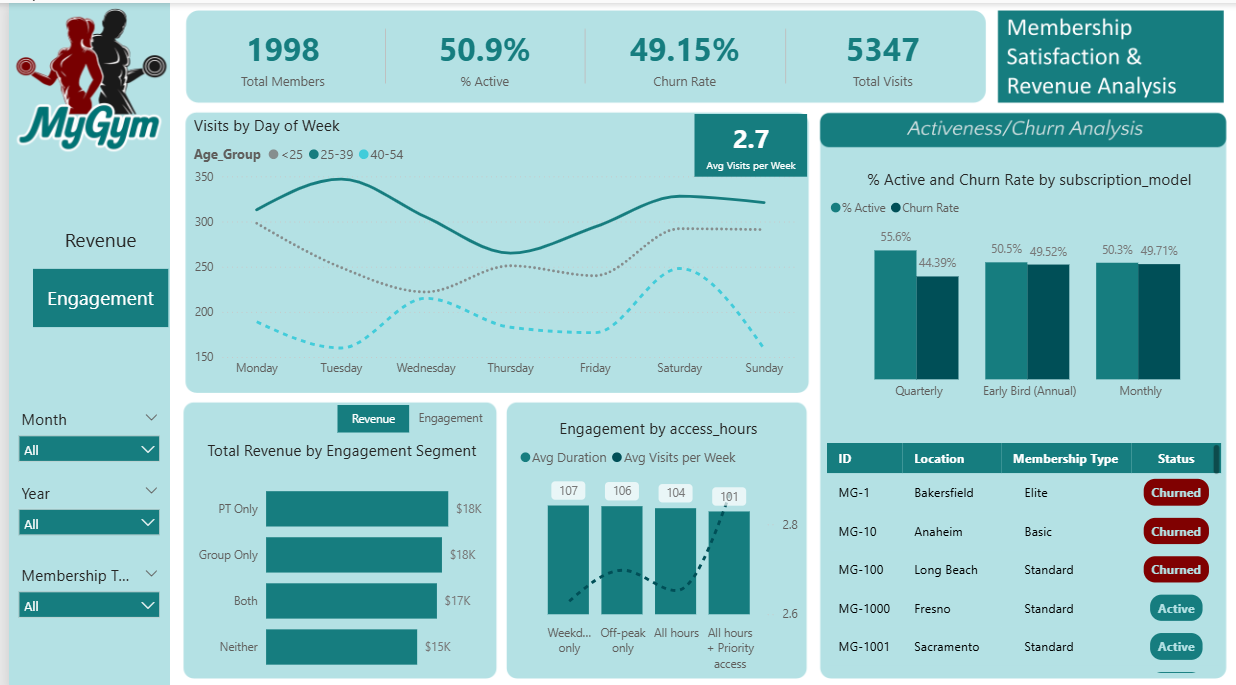

The page's visual inventory and layout, read from the dashboard file:
{"tool":"powerbi","page":{"name":"Engagement","canvas":[1280,720],"ordinal":1},"visuals":[{"type":"actionButton","box":[342.7,417.2,73.2,28.9],"z":0,"group":"g1"},{"type":"actionButton","box":[341.6,418.3,74.8,28.6],"z":0,"group":"g2"},{"type":"lineClusteredColumnComboChart","title":"Engagement by access_hours","fields":{"Category":["Fitness_Membership_Analytics_Dataset.access_hours"],"Y":["All_Measures.Avg Duration"],"Y2":["All_Measures.Avg Visits per Week"]},"box":[526.7,431.1,300,272.2],"z":0},{"type":"lineChart","title":"Visits by Day of Week","fields":{"Y":["All_Measures.Total Visits"],"Series":["Fitness_Membership_Analytics_Dataset.Age_Group"],"Category":["dimdates.DayLongName"]},"box":[187.6,115.7,639.3,282.9],"z":1000},{"type":"actionButton","box":[417.1,417.2,82.2,28.9],"z":1000,"group":"g1"},{"type":"clusteredBarChart","fields":{"Category":["Fitness_Membership_Analytics_Dataset.Engagement Segment"],"Y":["All_Measures.Total Revenue"]},"box":[187,455.4,318.7,260.1],"z":1000,"group":"g3"},{"type":"clusteredColumnChart","fields":{"Category":["Fitness_Membership_Analytics_Dataset.subscription_model"],"Y":["All_Measures.% Active","All_Measures.Churn Rate"]},"box":[850.4,172.1,425.8,249.9],"z":2000},{"type":"group","id":"g1","title":"InactiveBtn","box":[342.7,417.2,156.7,28.9],"z":2000,"group":"g3"},{"type":"card","title":"Revenue Loss","fields":{"Values":["All_Measures.Total Visits"]},"box":[812.1,15,194.8,80.9],"z":3000},{"type":"group","id":"g2","title":"ActiveBtn","box":[341.6,418.3,158.9,28.9],"z":3000,"group":"g3"},{"type":"card","fields":{"Values":["All_Measures.Total Members"]},"box":[187.8,15,194.8,80.9],"z":4000},{"type":"card","fields":{"Values":["All_Measures.% Active"]},"box":[398.6,15,193.7,80.9],"z":5000},{"type":"card","fields":{"Values":["All_Measures.Churn Rate"]},"box":[608.2,15,191.4,80.9],"z":6000},{"type":"group","id":"g3","title":"Group 1","box":[187,417.2,320.4,298.3],"z":7000},{"type":"pageNavigator","box":[25,215,141.7,123.3],"z":8000},{"type":"card","title":"Revenue Loss","fields":{"Values":["All_Measures.Avg Visits per Week"]},"box":[714.3,115.7,117.2,65.6],"z":9000},{"type":"htmlContent443BE3AD55E043BF878BED274D3A6855","fields":{"content":["All_Measures.Churned Table"]},"box":[846.5,452.6,420.7,248.6],"z":10000},{"type":"slicer","fields":{"Values":["dimdates.MonthLongName"]},"box":[0,417.1,167.1,70],"z":11000},{"type":"slicer","fields":{"Values":["dimdates.CalendarYear"]},"box":[0,494.3,167.1,70],"z":12000},{"type":"slicer","fields":{"Values":["Fitness_Membership_Analytics_Dataset.membership_type"]},"box":[0,580,167.1,70],"z":13000}]}

Visuals, with their boxes in screenshot pixels (x1, y1, x2, y2), scaled from the page's 1280x720 canvas onto the 1236x685 screenshot:
actionButton: box(331, 397, 402, 424)
actionButton: box(330, 398, 402, 425)
"Engagement by access_hours" lineClusteredColumnComboChart: box(509, 410, 798, 669)
"Visits by Day of Week" lineChart: box(181, 110, 798, 379)
actionButton: box(403, 397, 482, 424)
clusteredBarChart - Fitness_Membership_Analytics_Dataset.Engagement Segment x All_Measures.Total Revenue: box(181, 433, 488, 681)
clusteredColumnChart - Fitness_Membership_Analytics_Dataset.subscription_model x All_Measures.% Active: box(821, 164, 1232, 401)
"InactiveBtn" group: box(331, 397, 482, 424)
"Revenue Loss" card: box(784, 14, 972, 91)
"ActiveBtn" group: box(330, 398, 483, 425)
card - All_Measures.Total Members: box(181, 14, 369, 91)
card - All_Measures.% Active: box(385, 14, 572, 91)
card - All_Measures.Churn Rate: box(587, 14, 772, 91)
"Group 1" group: box(181, 397, 490, 681)
pageNavigator: box(24, 205, 161, 322)
"Revenue Loss" card: box(690, 110, 803, 172)
htmlContent443BE3AD55E043BF878BED274D3A6855 - All_Measures.Churned Table: box(817, 431, 1224, 667)
slicer - dimdates.MonthLongName: box(0, 397, 161, 463)
slicer - dimdates.CalendarYear: box(0, 470, 161, 537)
slicer - Fitness_Membership_Analytics_Dataset.membership_type: box(0, 552, 161, 618)
